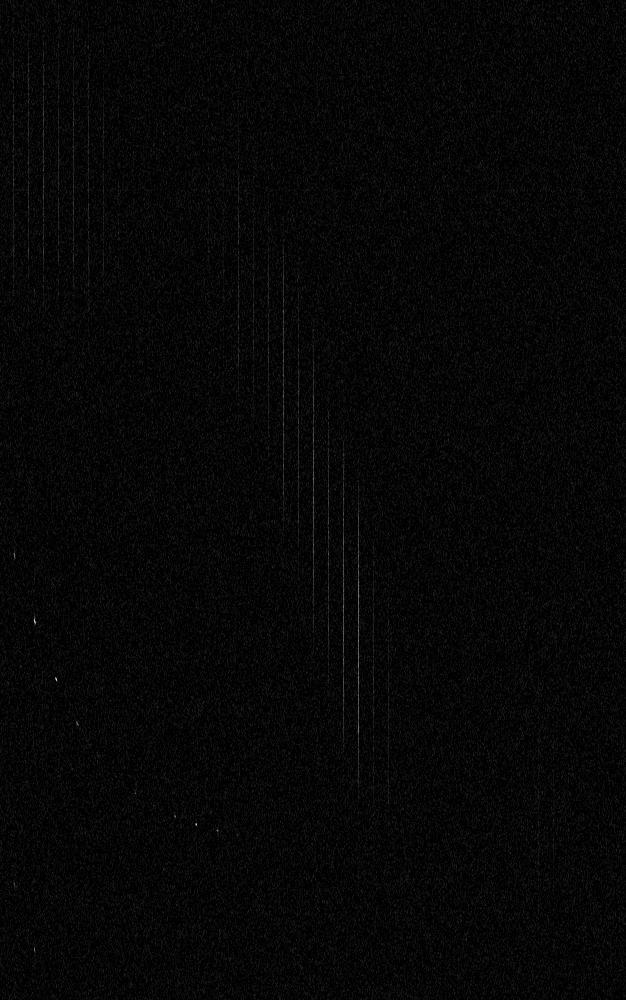signal: (0, 0, 625, 999)
